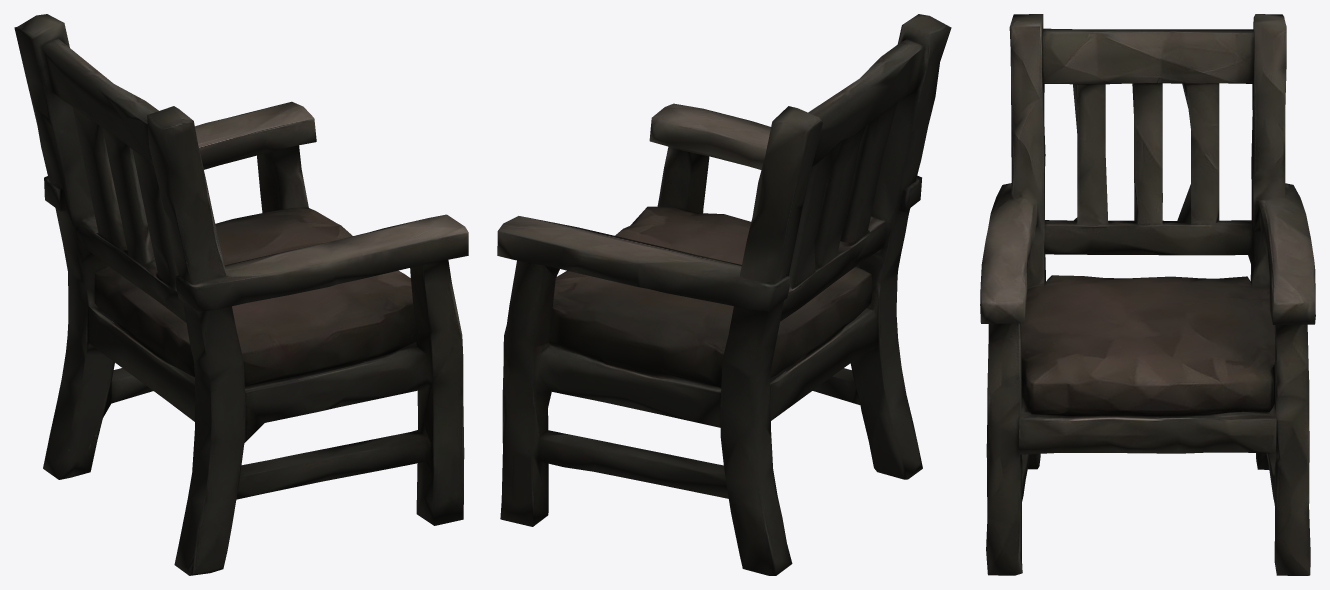
The model's file is wooden_armchair.glb.
3 views of the same model, side by side, from view 1: azimuth 30°, elevation 25°; view 2: azimuth 150°, elevation 25°; view 3: azimuth 270°, elevation 25° (orthographic). The views are drawn at different scales.
Visible parts, largest first — view 1: tripo_node_ed20fe28-7da6-413d-8a05-44e6923bc095; view 2: tripo_node_ed20fe28-7da6-413d-8a05-44e6923bc095; view 3: tripo_node_ed20fe28-7da6-413d-8a05-44e6923bc095.
Part boxes in pixels (bbox=[...]): tripo_node_ed20fe28-7da6-413d-8a05-44e6923bc095: bbox=[14, 14, 468, 575]; tripo_node_ed20fe28-7da6-413d-8a05-44e6923bc095: bbox=[497, 14, 951, 575]; tripo_node_ed20fe28-7da6-413d-8a05-44e6923bc095: bbox=[980, 14, 1315, 575].
Bounding box in the file's own units: 0.6879 × 1 × 0.7027.
1 material, 1 textured.
